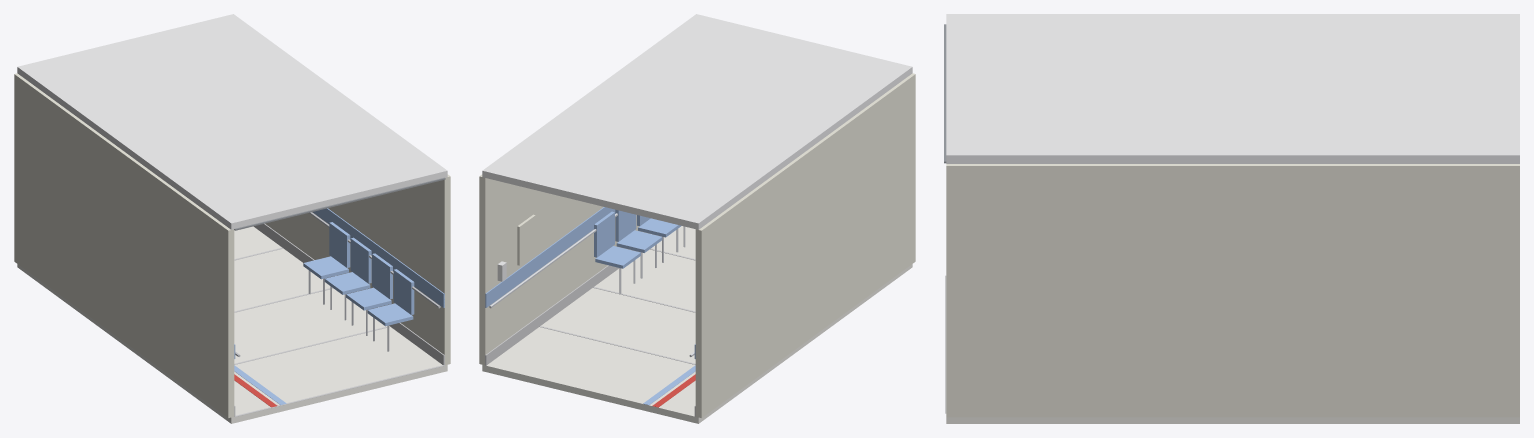
File: CorridorB.obj
The picture shows the model from 3 angles, left to right: view 1: azimuth 30°, elevation 25°; view 2: azimuth 150°, elevation 25°; view 3: azimuth 270°, elevation 25°; orthographic projection. The views are drawn at different scales.
Parts seen in each view (by area): view 1: CorridorB; view 2: CorridorB; view 3: CorridorB.
Part boxes in pixels (bbox=[...]): CorridorB: bbox=[14, 14, 450, 423]; CorridorB: bbox=[479, 14, 915, 423]; CorridorB: bbox=[944, 14, 1519, 423].
Size of the model in its own units: 3.6 by 3.1 by 6.03.
Materials: 1 (1 with a texture image).
